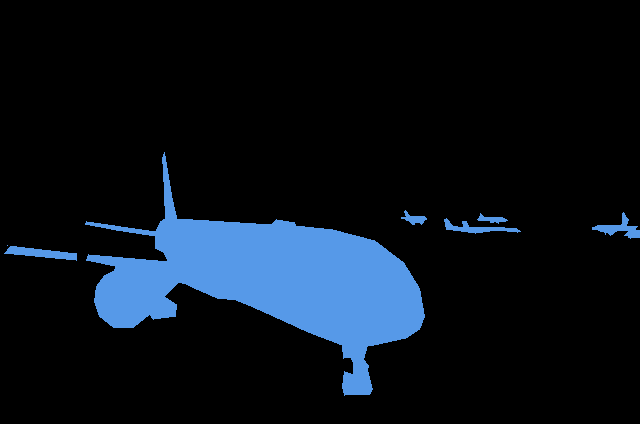Airplane: (4, 152, 424, 396), (444, 218, 520, 234), (592, 212, 638, 236), (401, 210, 427, 225), (477, 213, 507, 224), (624, 230, 640, 239)
